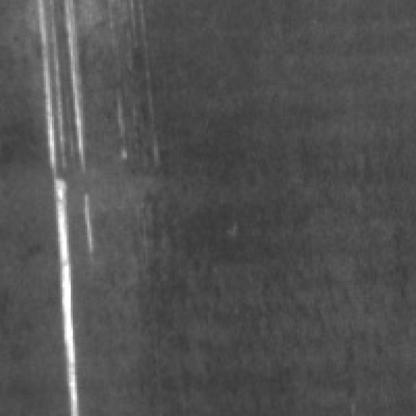scratches: (38, 0, 98, 410)
